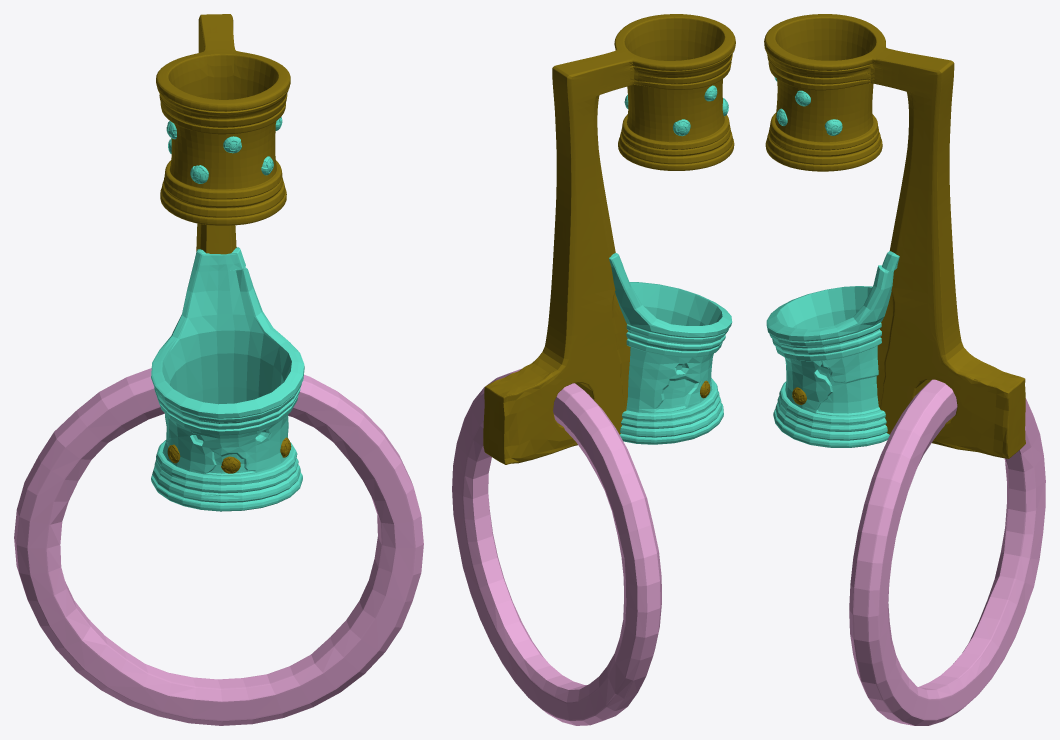
Rendered from Wall_Torch_Holder.obj.
3 renders of one model, left to right at view 1: azimuth 30°, elevation 25°; view 2: azimuth 150°, elevation 25°; view 3: azimuth 270°, elevation 25°, orthographic. The views are drawn at different scales.
Parts seen in each view (by area): view 1: Wall_Torch_Holder_Ring, Wall_Torch_Holder, Wall_Torch_Holder_Body; view 2: Wall_Torch_Holder_Body, Wall_Torch_Holder_Ring, Wall_Torch_Holder; view 3: Wall_Torch_Holder_Body, Wall_Torch_Holder_Ring, Wall_Torch_Holder.
Part boxes in pixels (x1,y1,x2,y2): Wall_Torch_Holder_Ring: [14, 368, 423, 725]; Wall_Torch_Holder: [151, 117, 304, 511]; Wall_Torch_Holder_Body: [156, 14, 291, 473]; Wall_Torch_Holder_Body: [483, 14, 735, 464]; Wall_Torch_Holder_Ring: [452, 368, 661, 725]; Wall_Torch_Holder: [609, 85, 732, 444]; Wall_Torch_Holder_Body: [764, 14, 1025, 458]; Wall_Torch_Holder_Ring: [849, 379, 1045, 725]; Wall_Torch_Holder: [766, 77, 899, 447].
Bounding box in the file's own units: 29.41 × 63.25 × 25.05.
